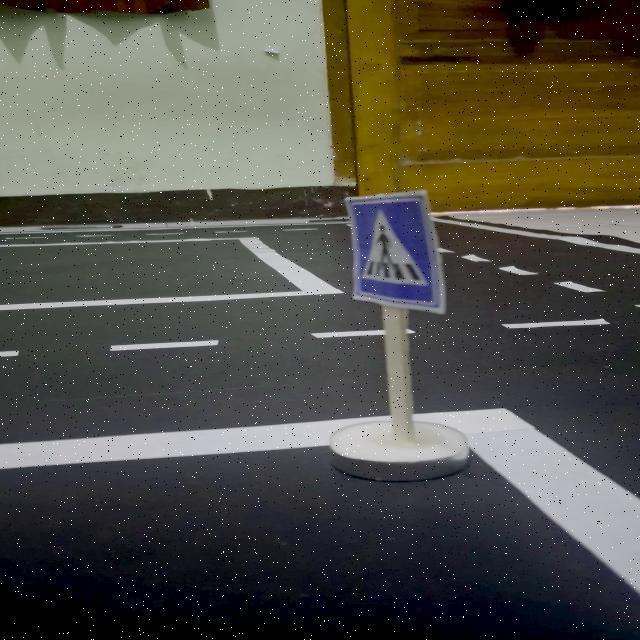Rambu Penyebrangan: (354, 196, 442, 306)
